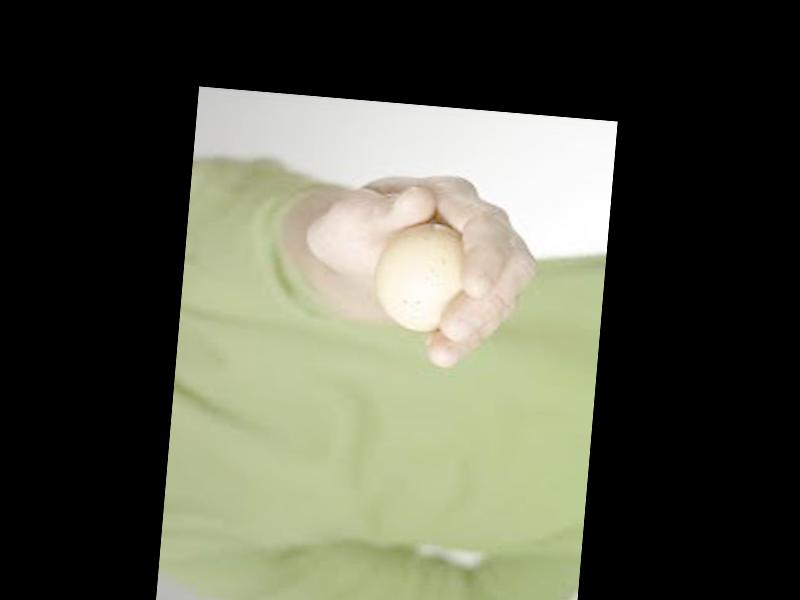Eggs: (372, 220, 468, 335)
